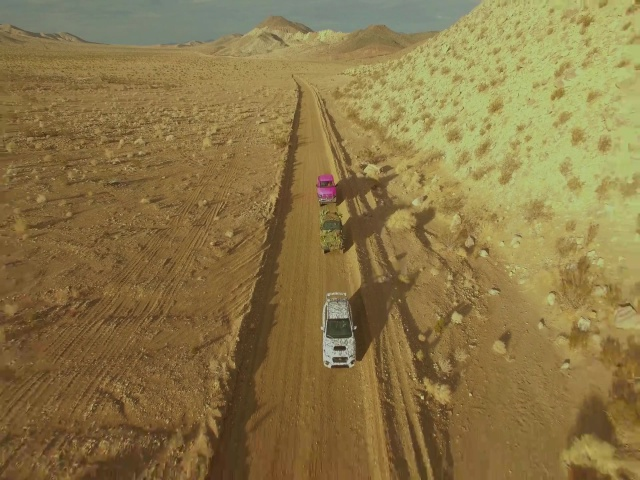vehicle: (320, 291, 357, 370), (318, 207, 347, 256), (315, 172, 338, 208)
